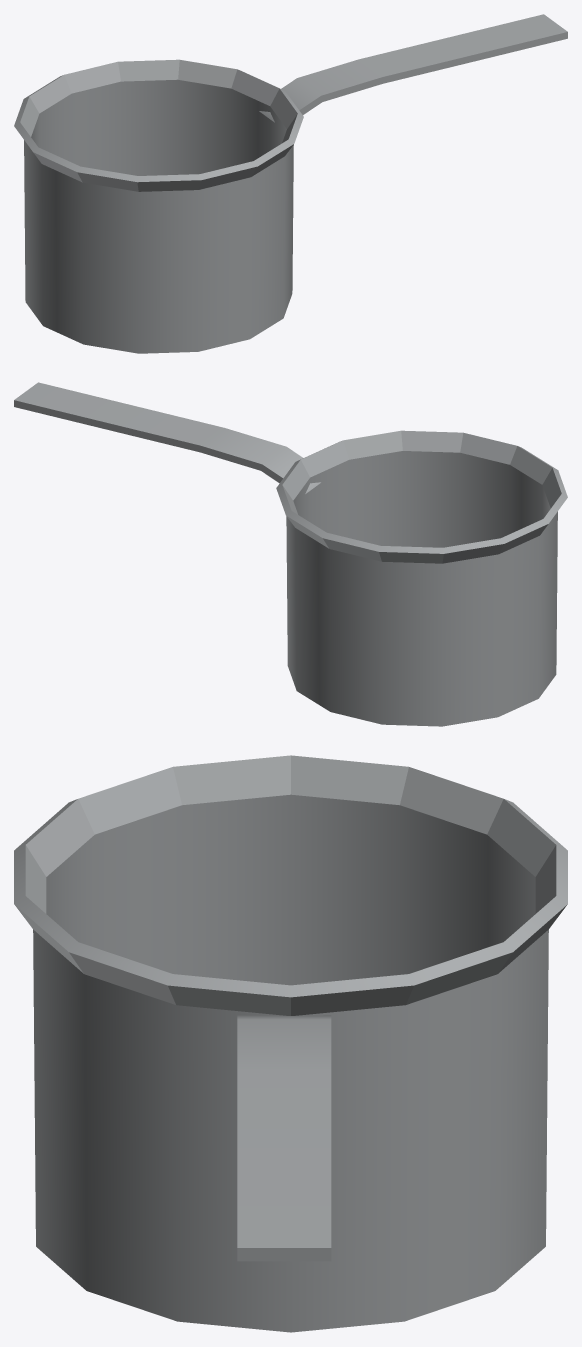
The model's file is SM_pot_02.fbx.
The picture shows the model from 3 angles, top to bottom: view 1: azimuth 30°, elevation 25°; view 2: azimuth 150°, elevation 25°; view 3: azimuth 270°, elevation 25°; orthographic projection. The views are drawn at different scales.
Visible parts, largest first — view 1: Line042; view 2: Line042; view 3: Line042.
Part boxes in pixels (x1,y1,x2,y2): Line042: [14, 14, 567, 353]; Line042: [14, 382, 567, 726]; Line042: [14, 755, 567, 1332].
Bounding box in the file's own units: 34.62 × 16.31 × 11.42.
